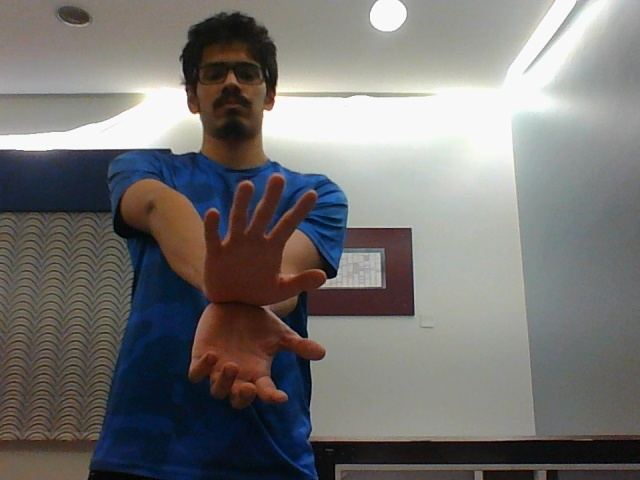blast: (182, 175, 338, 410)
